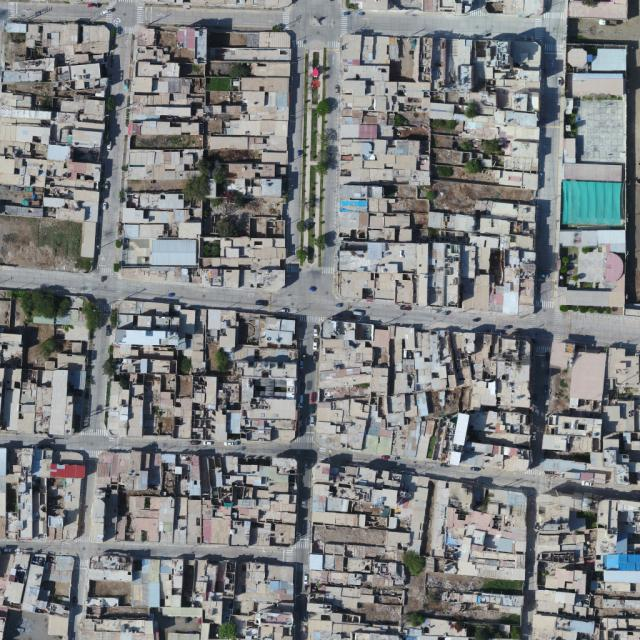building: (310, 317, 541, 473), (107, 299, 303, 445), (339, 35, 431, 303), (89, 449, 300, 547), (306, 462, 413, 640), (559, 45, 626, 312), (535, 491, 640, 639), (423, 212, 541, 317), (430, 88, 539, 190), (428, 480, 532, 582), (126, 24, 208, 138), (0, 447, 85, 540), (119, 190, 203, 282), (0, 368, 82, 436), (445, 38, 542, 94), (196, 254, 287, 291), (127, 150, 203, 180), (441, 592, 524, 614), (241, 87, 289, 121), (406, 485, 430, 551), (219, 236, 287, 259), (474, 198, 536, 223), (210, 47, 291, 62), (207, 136, 288, 151), (222, 119, 288, 136), (227, 177, 281, 197), (144, 1, 294, 8), (431, 37, 447, 90), (548, 340, 575, 371), (0, 332, 23, 367), (229, 164, 286, 178), (250, 216, 285, 238), (240, 77, 288, 92), (247, 32, 291, 48), (540, 458, 586, 472), (80, 221, 97, 258), (251, 62, 289, 77), (419, 38, 432, 81), (57, 353, 86, 371), (56, 308, 85, 325), (67, 370, 87, 391), (65, 325, 89, 341), (0, 297, 12, 328), (261, 150, 287, 164), (401, 475, 419, 492), (6, 22, 28, 33), (578, 472, 594, 486), (32, 316, 54, 324), (225, 104, 241, 114), (71, 296, 84, 308), (594, 472, 606, 484), (205, 105, 221, 114), (564, 471, 581, 479), (71, 342, 82, 354), (418, 476, 429, 488), (45, 361, 55, 370), (240, 114, 249, 120)
dryland: (0, 216, 95, 274), (199, 185, 287, 235), (429, 179, 535, 220), (424, 603, 504, 625), (19, 321, 54, 370), (5, 82, 54, 109), (425, 572, 489, 592), (404, 571, 427, 615), (452, 166, 500, 182), (4, 34, 27, 65), (432, 148, 463, 165), (206, 91, 243, 105), (206, 60, 235, 76), (12, 300, 25, 329), (227, 32, 248, 46), (433, 136, 453, 148), (47, 347, 62, 362), (206, 120, 222, 134), (425, 592, 441, 605), (53, 334, 64, 348)
greenland: (11, 283, 73, 326), (396, 546, 430, 579), (79, 299, 108, 336), (33, 333, 65, 363), (481, 578, 523, 595), (185, 175, 209, 204), (99, 354, 123, 379), (215, 214, 240, 237), (210, 163, 228, 192), (463, 157, 485, 177), (194, 157, 215, 177), (405, 609, 426, 629), (206, 77, 234, 91), (202, 238, 220, 258), (229, 62, 251, 78), (430, 119, 456, 132), (481, 139, 503, 154), (474, 625, 493, 639), (499, 613, 521, 624), (465, 101, 478, 118), (438, 165, 454, 178), (425, 189, 437, 201), (459, 141, 473, 151)
metalled_road: (328, 172, 640, 640)
